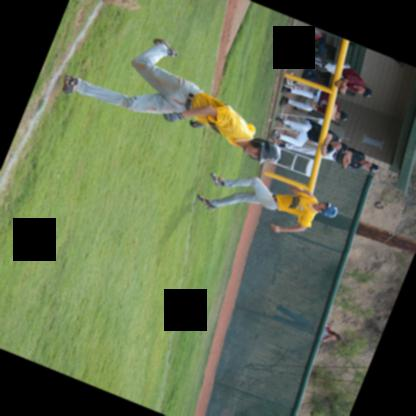backpack: (290, 27, 306, 48)
